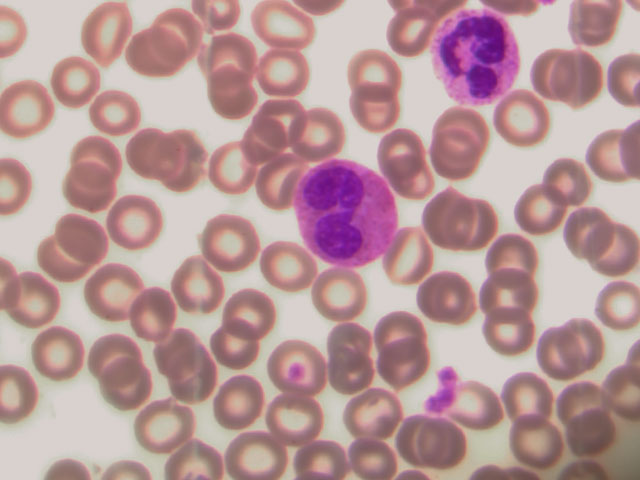Platelets: (422, 360, 462, 416)
RBC: (103, 194, 163, 246), (52, 208, 112, 260), (26, 234, 86, 286), (2, 273, 62, 325), (31, 328, 91, 380), (86, 326, 146, 378), (97, 352, 157, 404), (125, 288, 185, 340), (87, 264, 147, 316), (166, 260, 226, 312), (202, 215, 262, 267), (202, 139, 262, 191), (160, 136, 220, 188), (127, 126, 187, 178), (126, 27, 186, 79), (147, 7, 207, 59), (81, 4, 141, 56), (48, 53, 108, 105), (1, 86, 61, 138), (131, 399, 191, 451), (226, 428, 286, 480), (267, 389, 327, 441), (264, 340, 324, 392), (203, 323, 263, 375), (226, 283, 286, 335), (258, 242, 318, 294), (318, 268, 378, 320), (323, 320, 383, 372), (375, 304, 435, 356), (372, 338, 432, 390), (343, 390, 403, 442), (340, 428, 400, 480), (398, 416, 458, 468), (455, 377, 515, 429), (491, 367, 551, 419), (507, 421, 567, 473), (558, 404, 618, 456), (560, 376, 620, 428), (536, 325, 596, 377), (482, 311, 542, 363), (481, 267, 541, 319), (483, 233, 543, 285), (425, 191, 485, 243), (379, 228, 439, 280), (424, 273, 484, 325), (376, 131, 436, 183), (347, 92, 407, 144), (347, 47, 407, 99), (296, 110, 356, 162), (257, 98, 317, 150), (260, 47, 320, 99), (205, 71, 265, 123), (201, 31, 261, 83), (556, 52, 616, 104), (530, 48, 590, 100), (492, 93, 552, 145), (430, 95, 490, 147), (430, 125, 490, 177), (542, 154, 602, 206), (511, 181, 571, 233), (563, 205, 623, 257), (580, 281, 640, 333), (580, 126, 640, 178), (250, 1, 310, 52), (88, 86, 141, 133), (70, 127, 123, 174), (62, 168, 115, 215)
WBC: (291, 156, 398, 269), (433, 9, 520, 107)
